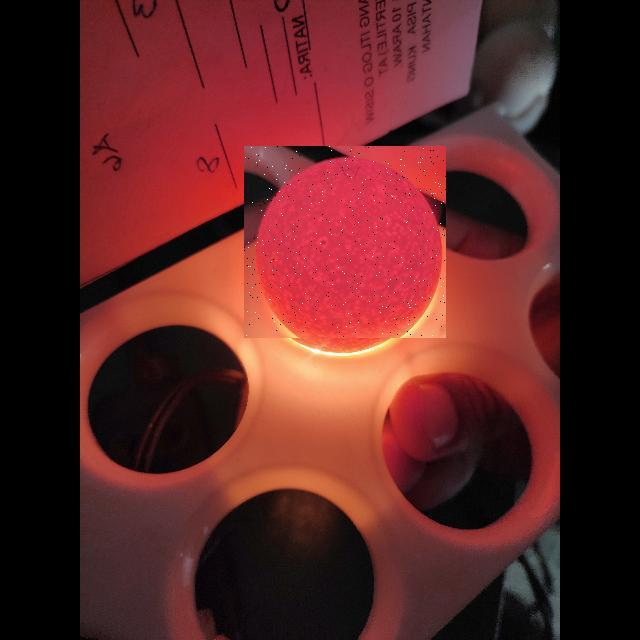A - Good: (244, 146, 446, 338)
